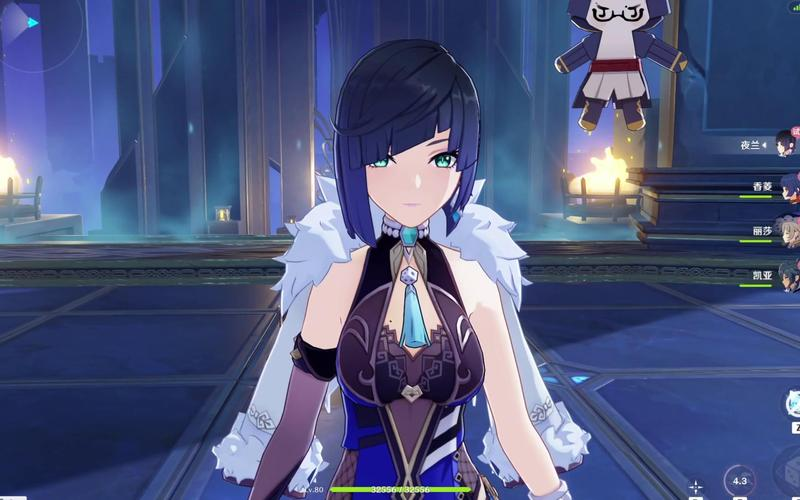夜兰: (248, 43, 575, 500)
